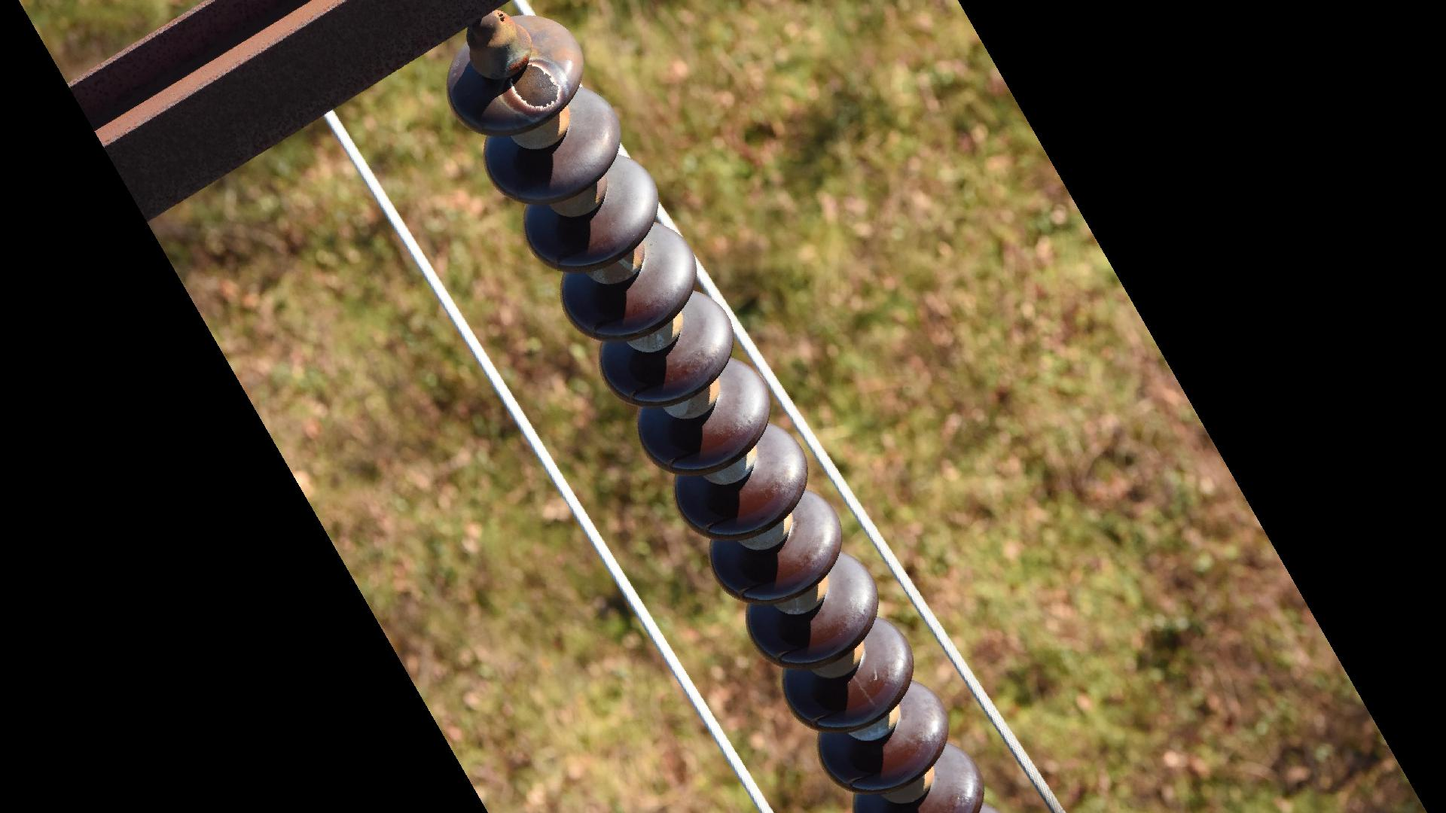insulator: (444, 11, 987, 813)
insulator_flashover: (509, 60, 566, 113)
